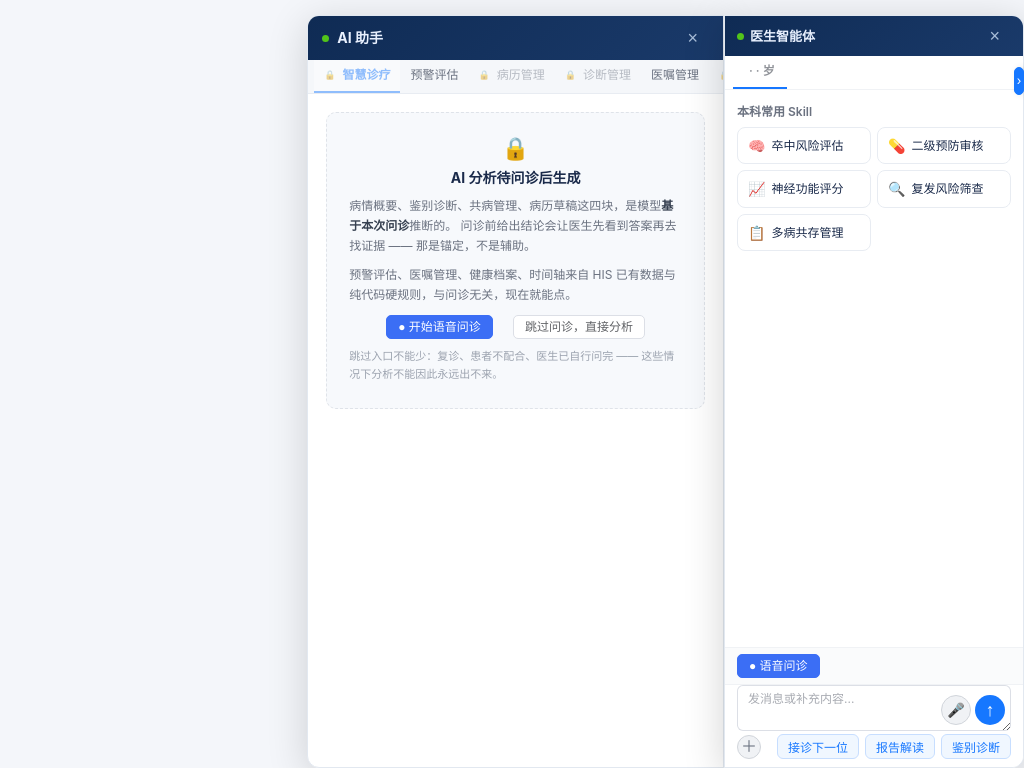
it: 浮层重新唤出 › 抽屉和面板都关 → 显示圆形 AI 钮
Click the button with class "tips-close".
click(693, 38)  # box [676,26,709,50]
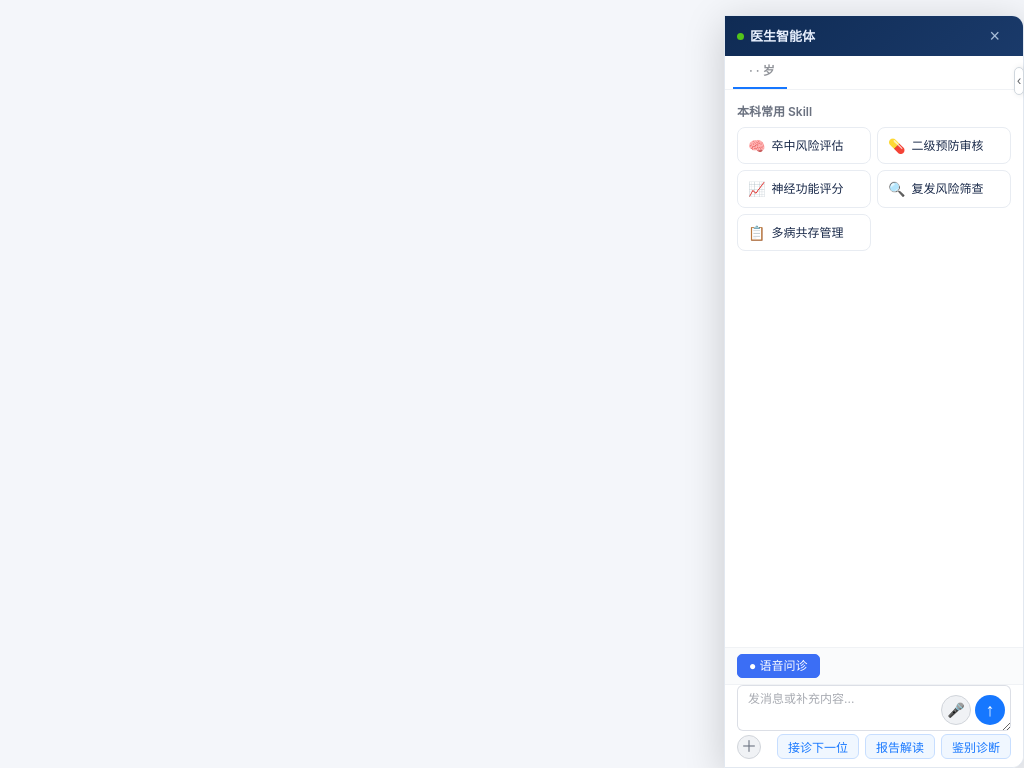
Click the button "×".
click(995, 36)  # box [978,24,1011,48]
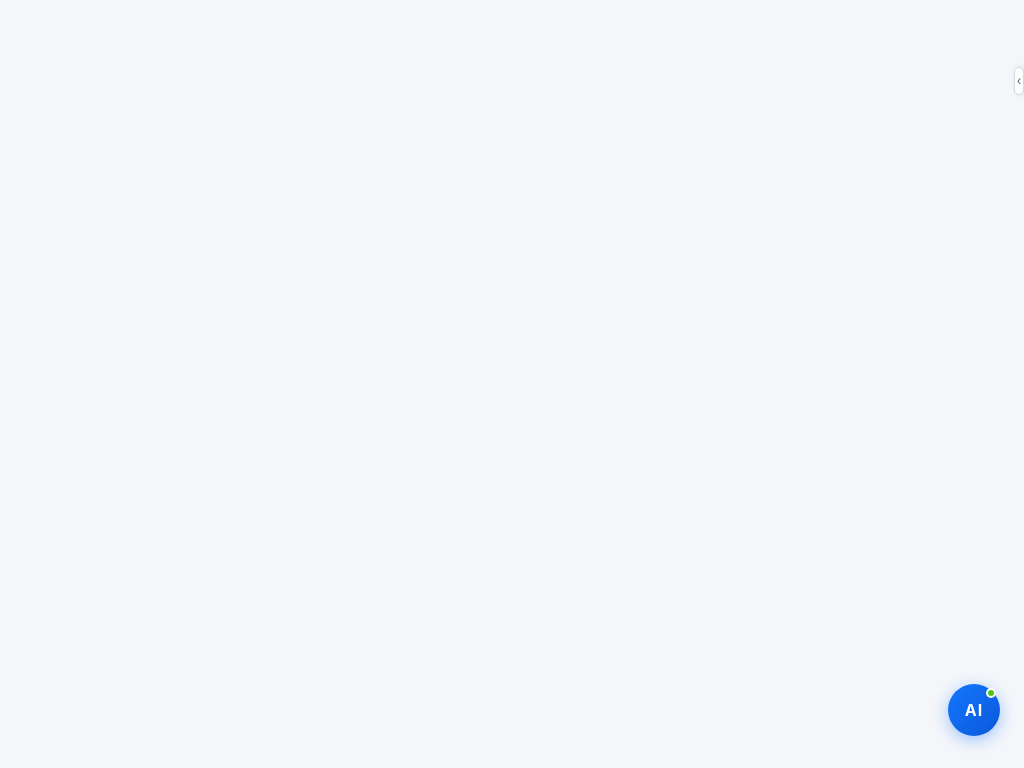
Expected: the button with class "ai-float-btn" is shown, [948,684,1000,736]
Expected: the icon with class "float-icon" reads "AI", [965,700,983,720]
Expected: the element with class "float-ready-dot" is shown, [986,688,996,698]
